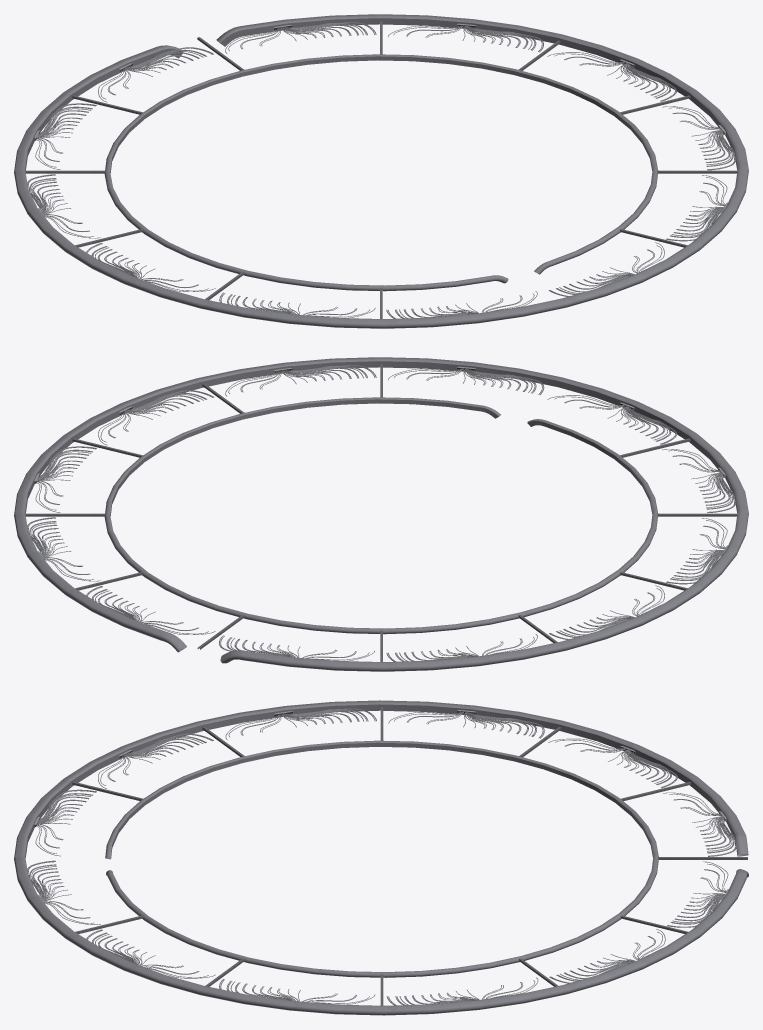
File: field_winter_pipe.fbx
3 renders of one model, top to bottom at view 1: azimuth 30°, elevation 25°; view 2: azimuth 150°, elevation 25°; view 3: azimuth 270°, elevation 25°, orthographic.
Visible parts, largest first — view 1: field_winter_pipe; view 2: field_winter_pipe; view 3: field_winter_pipe.
Part boxes in pixels (left/top/right/bottom): field_winter_pipe: left=14, top=14, right=748, bottom=328; field_winter_pipe: left=14, top=357, right=748, bottom=671; field_winter_pipe: left=14, top=700, right=748, bottom=1015.
Size of the model in its own units: 13418 by 300 by 13402.
1 material, 1 textured.
